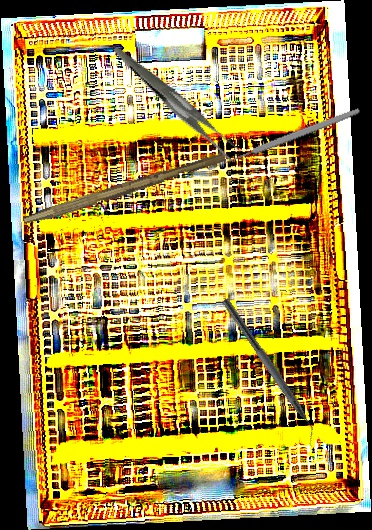Chopper: (211, 297, 326, 448)
Dressing Forceps: (113, 19, 243, 185)
Scalpel Handle: (22, 148, 227, 231)
Surgical Spoon: (205, 106, 362, 173)
